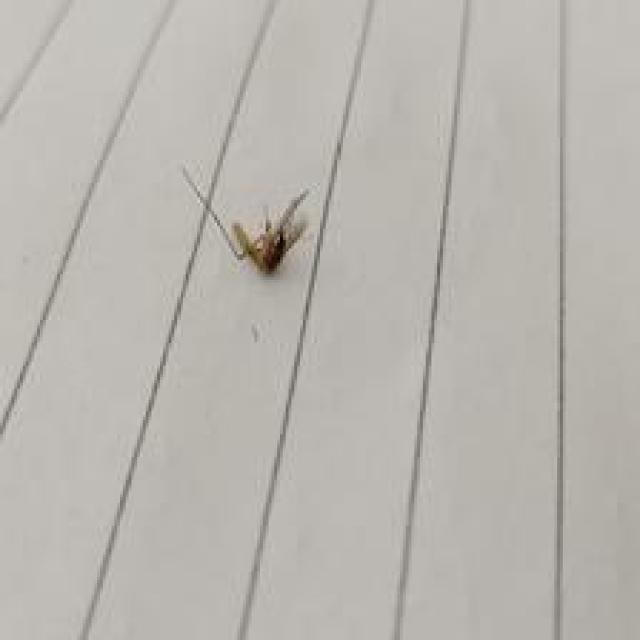Culex: (230, 187, 310, 276)
